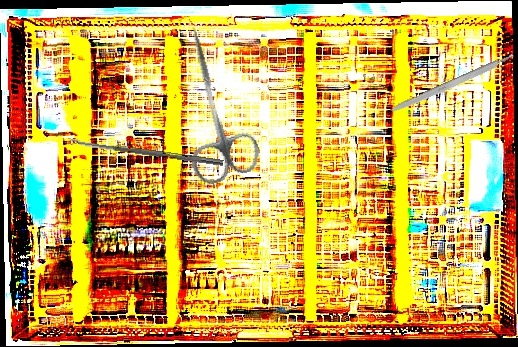Iris Scissors: (157, 19, 265, 188)
Scalpel Handle: (388, 52, 516, 117)
Surgical Spoon: (67, 137, 224, 166)
